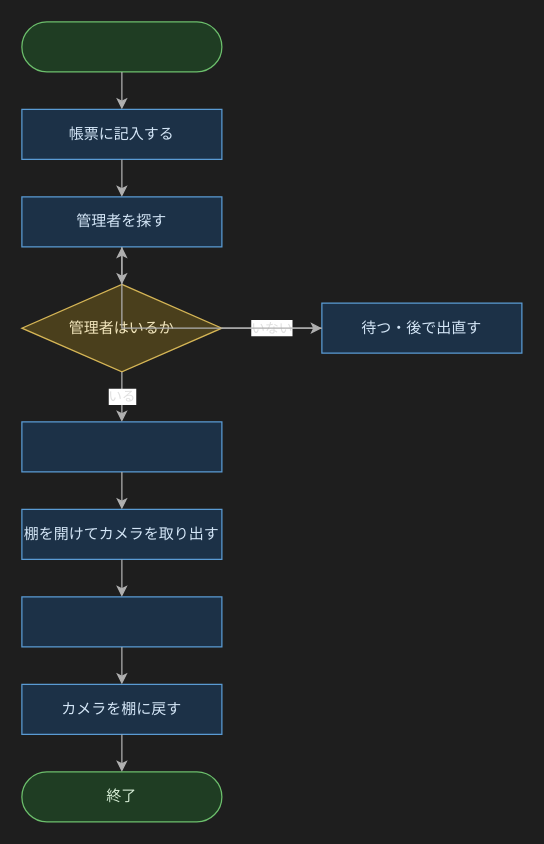
The diagram is 544 pixels wide and 844 high, and some of its shapes have lost their labels. The shapes that lost their labels are listed below. From the top down, each one's box as (x1, y1, x2, y2) in pixels, then its label:
(21, 21, 222, 72): 開始
(21, 421, 222, 472): 管理者が帳票をチェックする
(21, 596, 222, 647): カメラを使う
